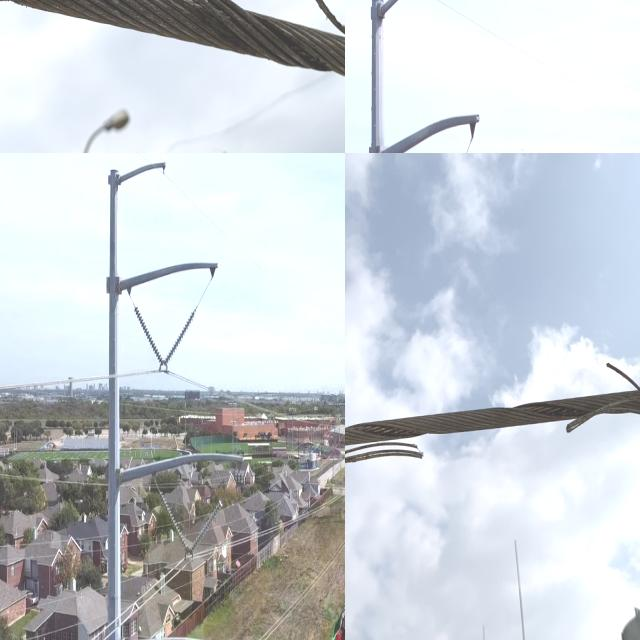正常绝缘子: (154, 300, 202, 383), (181, 491, 231, 566), (154, 479, 195, 565), (130, 298, 170, 376)
电缆破损: (0, 0, 345, 99), (551, 340, 640, 446), (345, 407, 446, 475)
